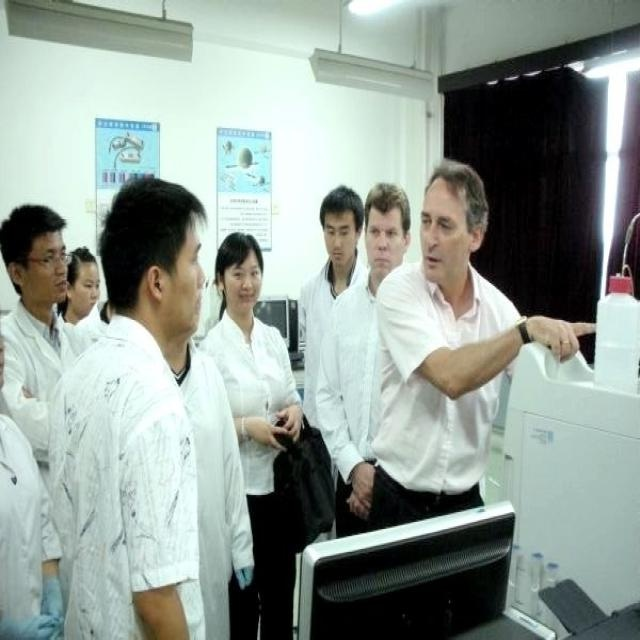Sin_Casco_Mascarrilla: (421, 158, 487, 282), (213, 233, 263, 319), (319, 183, 363, 267)
